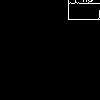E: (26, 24, 76, 61)
